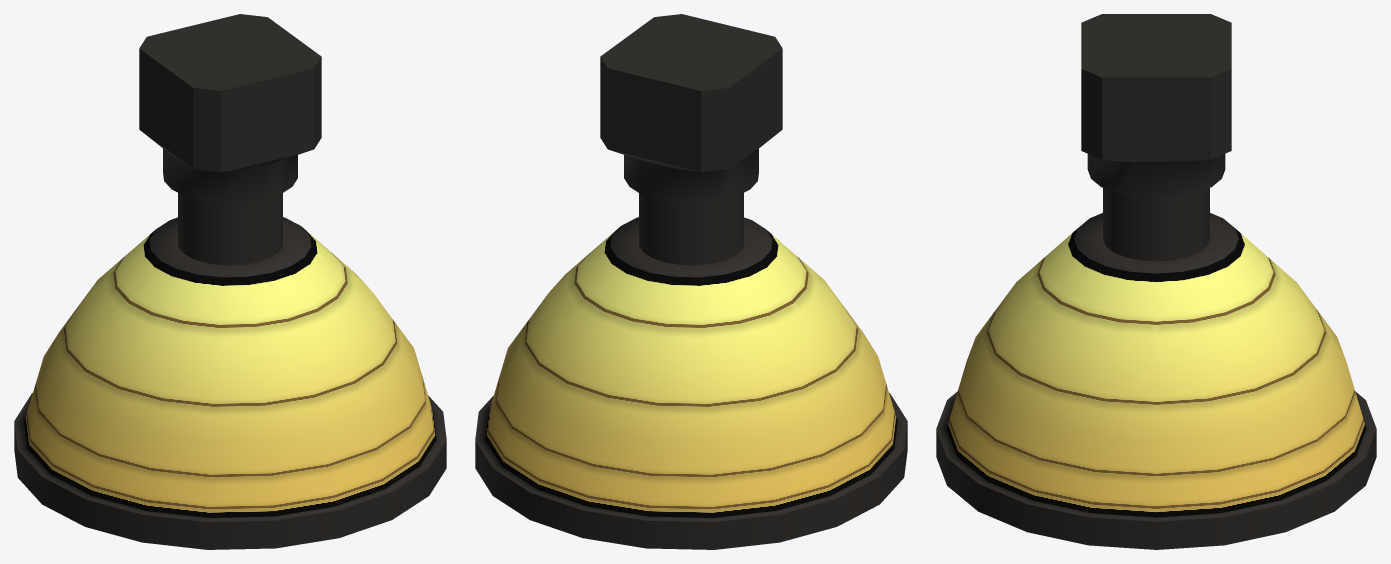
The model's file is GYM_Bell_Lamp.fbx.
The picture shows the model from 3 angles, left to right: view 1: azimuth 30°, elevation 25°; view 2: azimuth 150°, elevation 25°; view 3: azimuth 270°, elevation 25°; orthographic projection.
Parts seen in each view (by area): view 1: GYM_Bell_Lamp; view 2: GYM_Bell_Lamp; view 3: GYM_Bell_Lamp.
Part boxes in pixels (x1=…): GYM_Bell_Lamp: x1=14, y1=14, x2=446, y2=549; GYM_Bell_Lamp: x1=475, y1=14, x2=907, y2=549; GYM_Bell_Lamp: x1=936, y1=14, x2=1376, y2=549.
Size of the model in its own units: 1.03 by 1.06 by 1.03.
3 materials, 2 textured.
